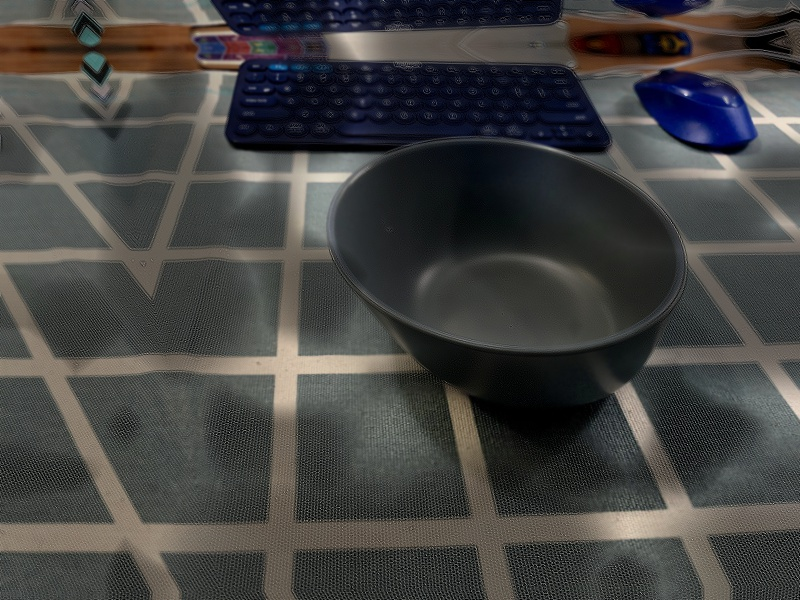bowl_big: (297, 131, 732, 417)
